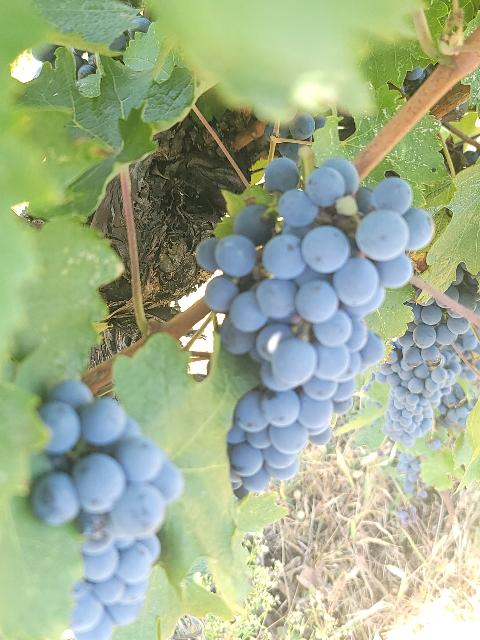grapes: (196, 158, 434, 498), (29, 380, 184, 640), (375, 300, 469, 448)
